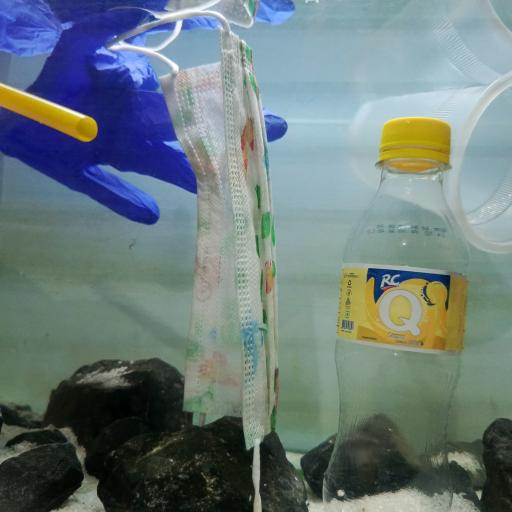bottle_cap: (380, 117, 452, 152)
glove: (0, 11, 288, 215)
mask: (102, 12, 281, 498)
plastic_bottle: (323, 115, 470, 511)
plastic_cup: (346, 72, 512, 256)
plastic_straw: (0, 80, 100, 142)
